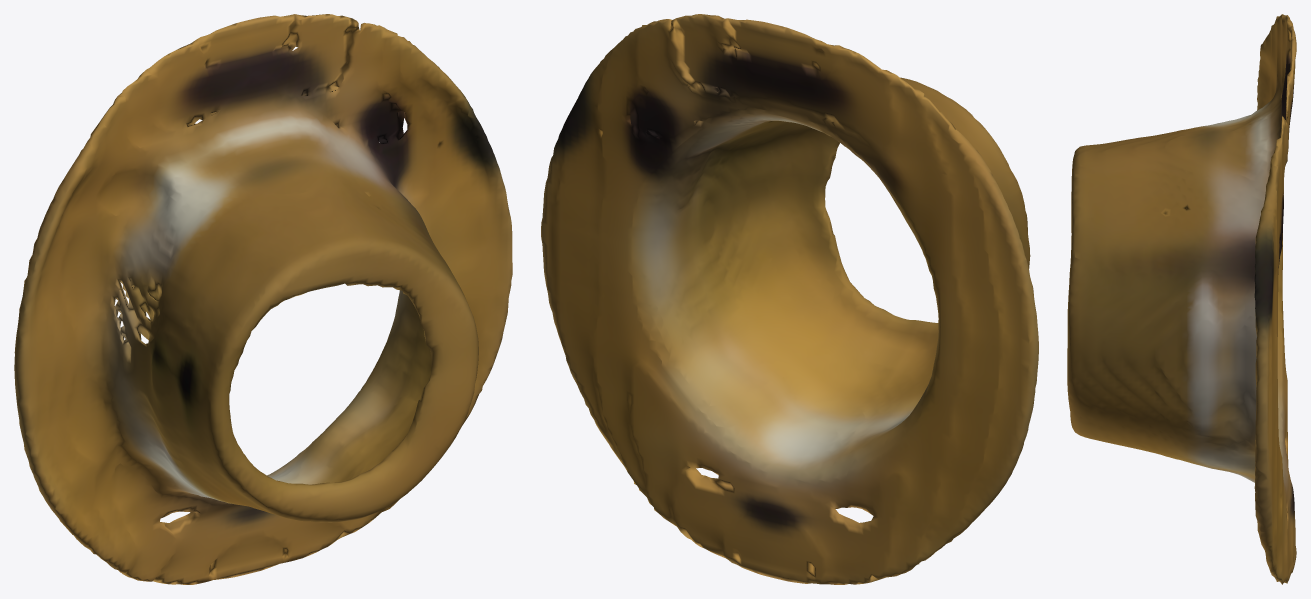
Rendered from hat.glb.
3 renders of one model, left to right at view 1: azimuth 30°, elevation 25°; view 2: azimuth 150°, elevation 25°; view 3: azimuth 270°, elevation 25°, orthographic. The views are drawn at different scales.
Size of the model in its own units: 0.9356 by 0.9992 by 0.4035.
